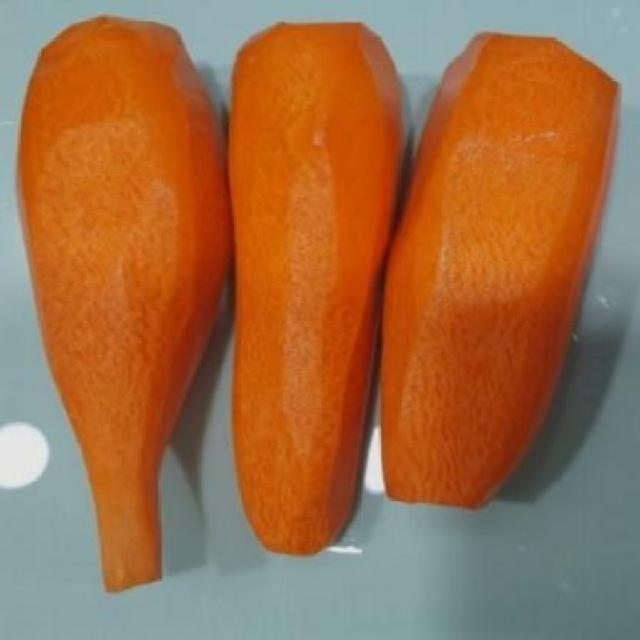carrot: (3, 9, 232, 628), (382, 22, 618, 513), (222, 19, 408, 567)
